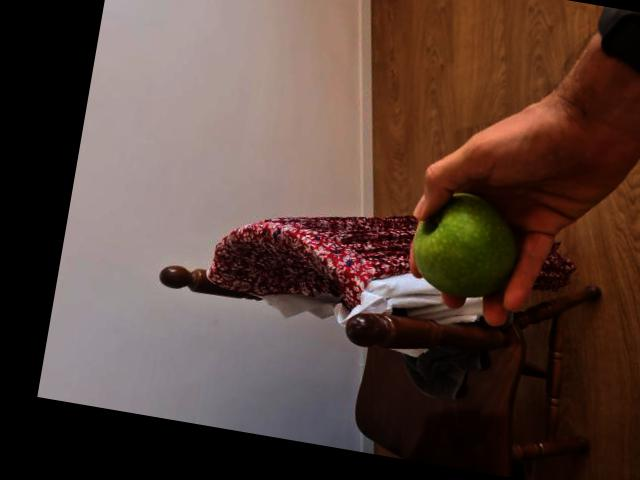apple: (407, 185, 523, 297)
